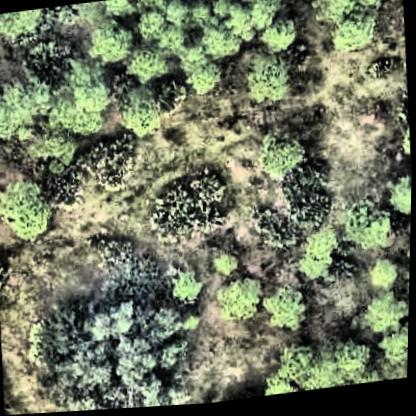tree-top: (30, 297, 203, 414), (146, 169, 230, 248), (0, 172, 60, 249), (22, 29, 78, 100), (19, 126, 83, 179), (256, 129, 309, 185), (298, 226, 345, 287), (215, 271, 267, 326), (349, 200, 401, 255), (114, 87, 164, 143), (280, 340, 332, 393), (258, 284, 308, 336), (329, 12, 377, 59), (363, 290, 411, 337), (329, 340, 377, 387), (90, 21, 138, 68), (248, 61, 292, 108), (126, 42, 172, 85), (167, 265, 209, 312), (0, 87, 34, 145), (185, 57, 226, 100), (72, 74, 112, 118), (0, 10, 49, 45), (204, 22, 243, 63), (259, 17, 298, 54), (309, 0, 358, 29), (132, 7, 168, 46), (375, 332, 410, 372), (159, 0, 200, 31), (372, 259, 402, 294), (246, 2, 277, 34), (393, 176, 413, 225), (215, 248, 241, 280), (355, 0, 384, 14)
